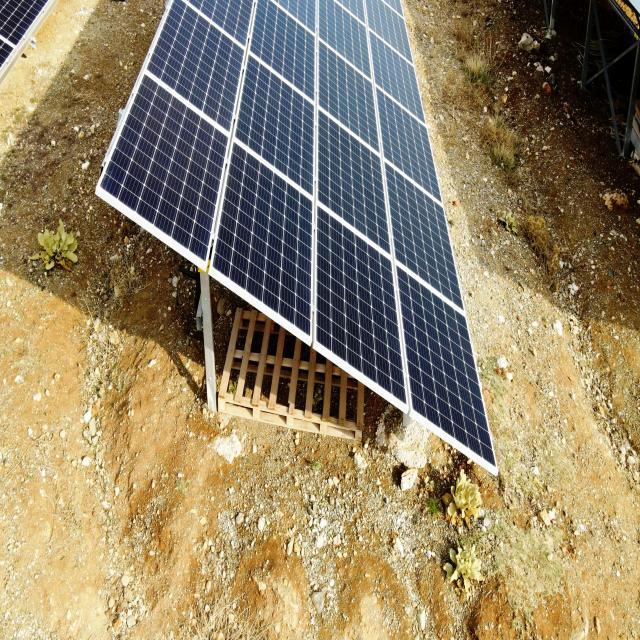no faulty: (96, 0, 526, 471)
